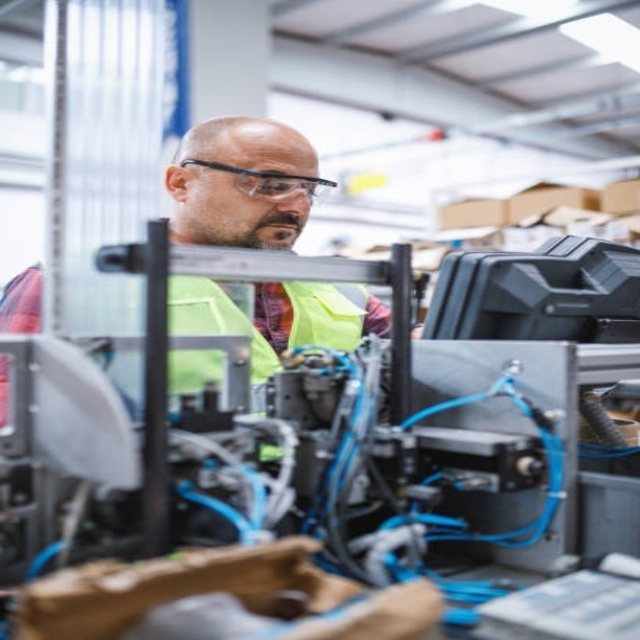Gafas: (179, 159, 338, 205)
Sin_mascara: (243, 215, 306, 246)
